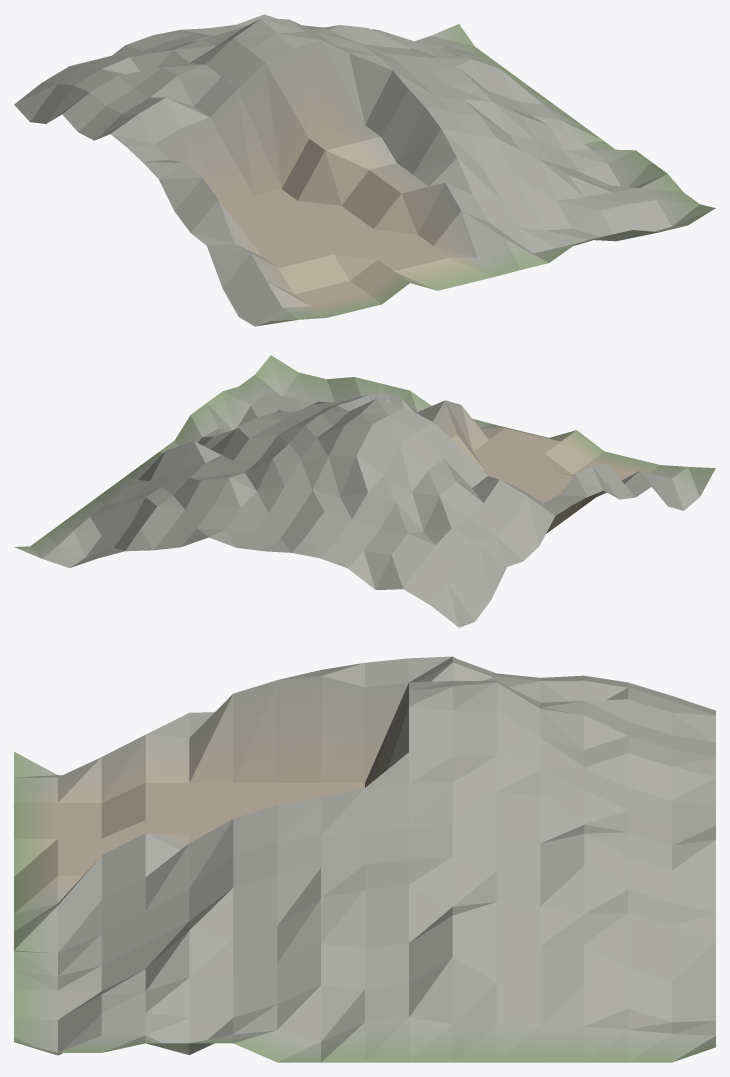
The picture shows the model from 3 angles, top to bottom: view 1: azimuth 30°, elevation 25°; view 2: azimuth 150°, elevation 25°; view 3: azimuth 270°, elevation 25°; orthographic projection. The views are drawn at different scales.
Bounding box in the file's own units: 32 × 10.48 × 32.
